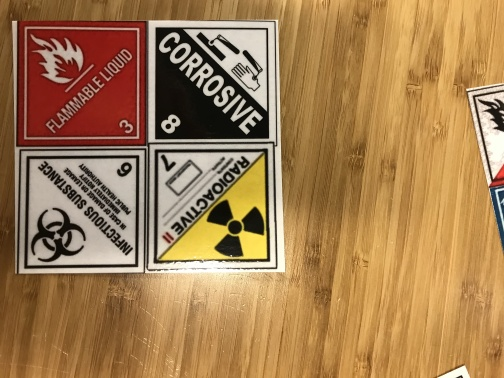Corrosive: (147, 20, 277, 144)
FlammableLiquid: (17, 20, 147, 147)
InfectiousSubstance: (17, 148, 145, 274)
Radioactive: (148, 144, 280, 271)
